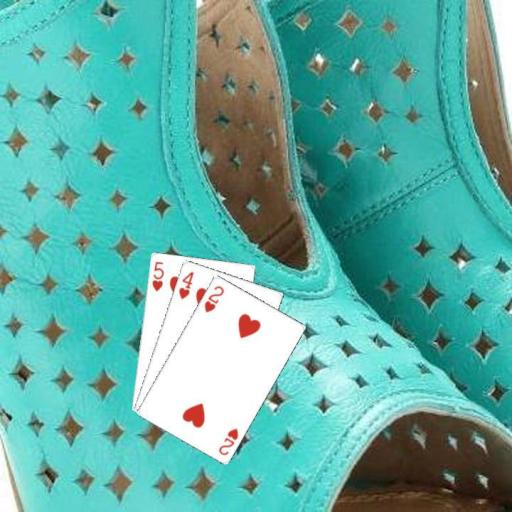2H: (202, 282, 226, 314), (216, 425, 240, 457)
4H: (176, 268, 195, 300)
5H: (149, 258, 165, 292)
